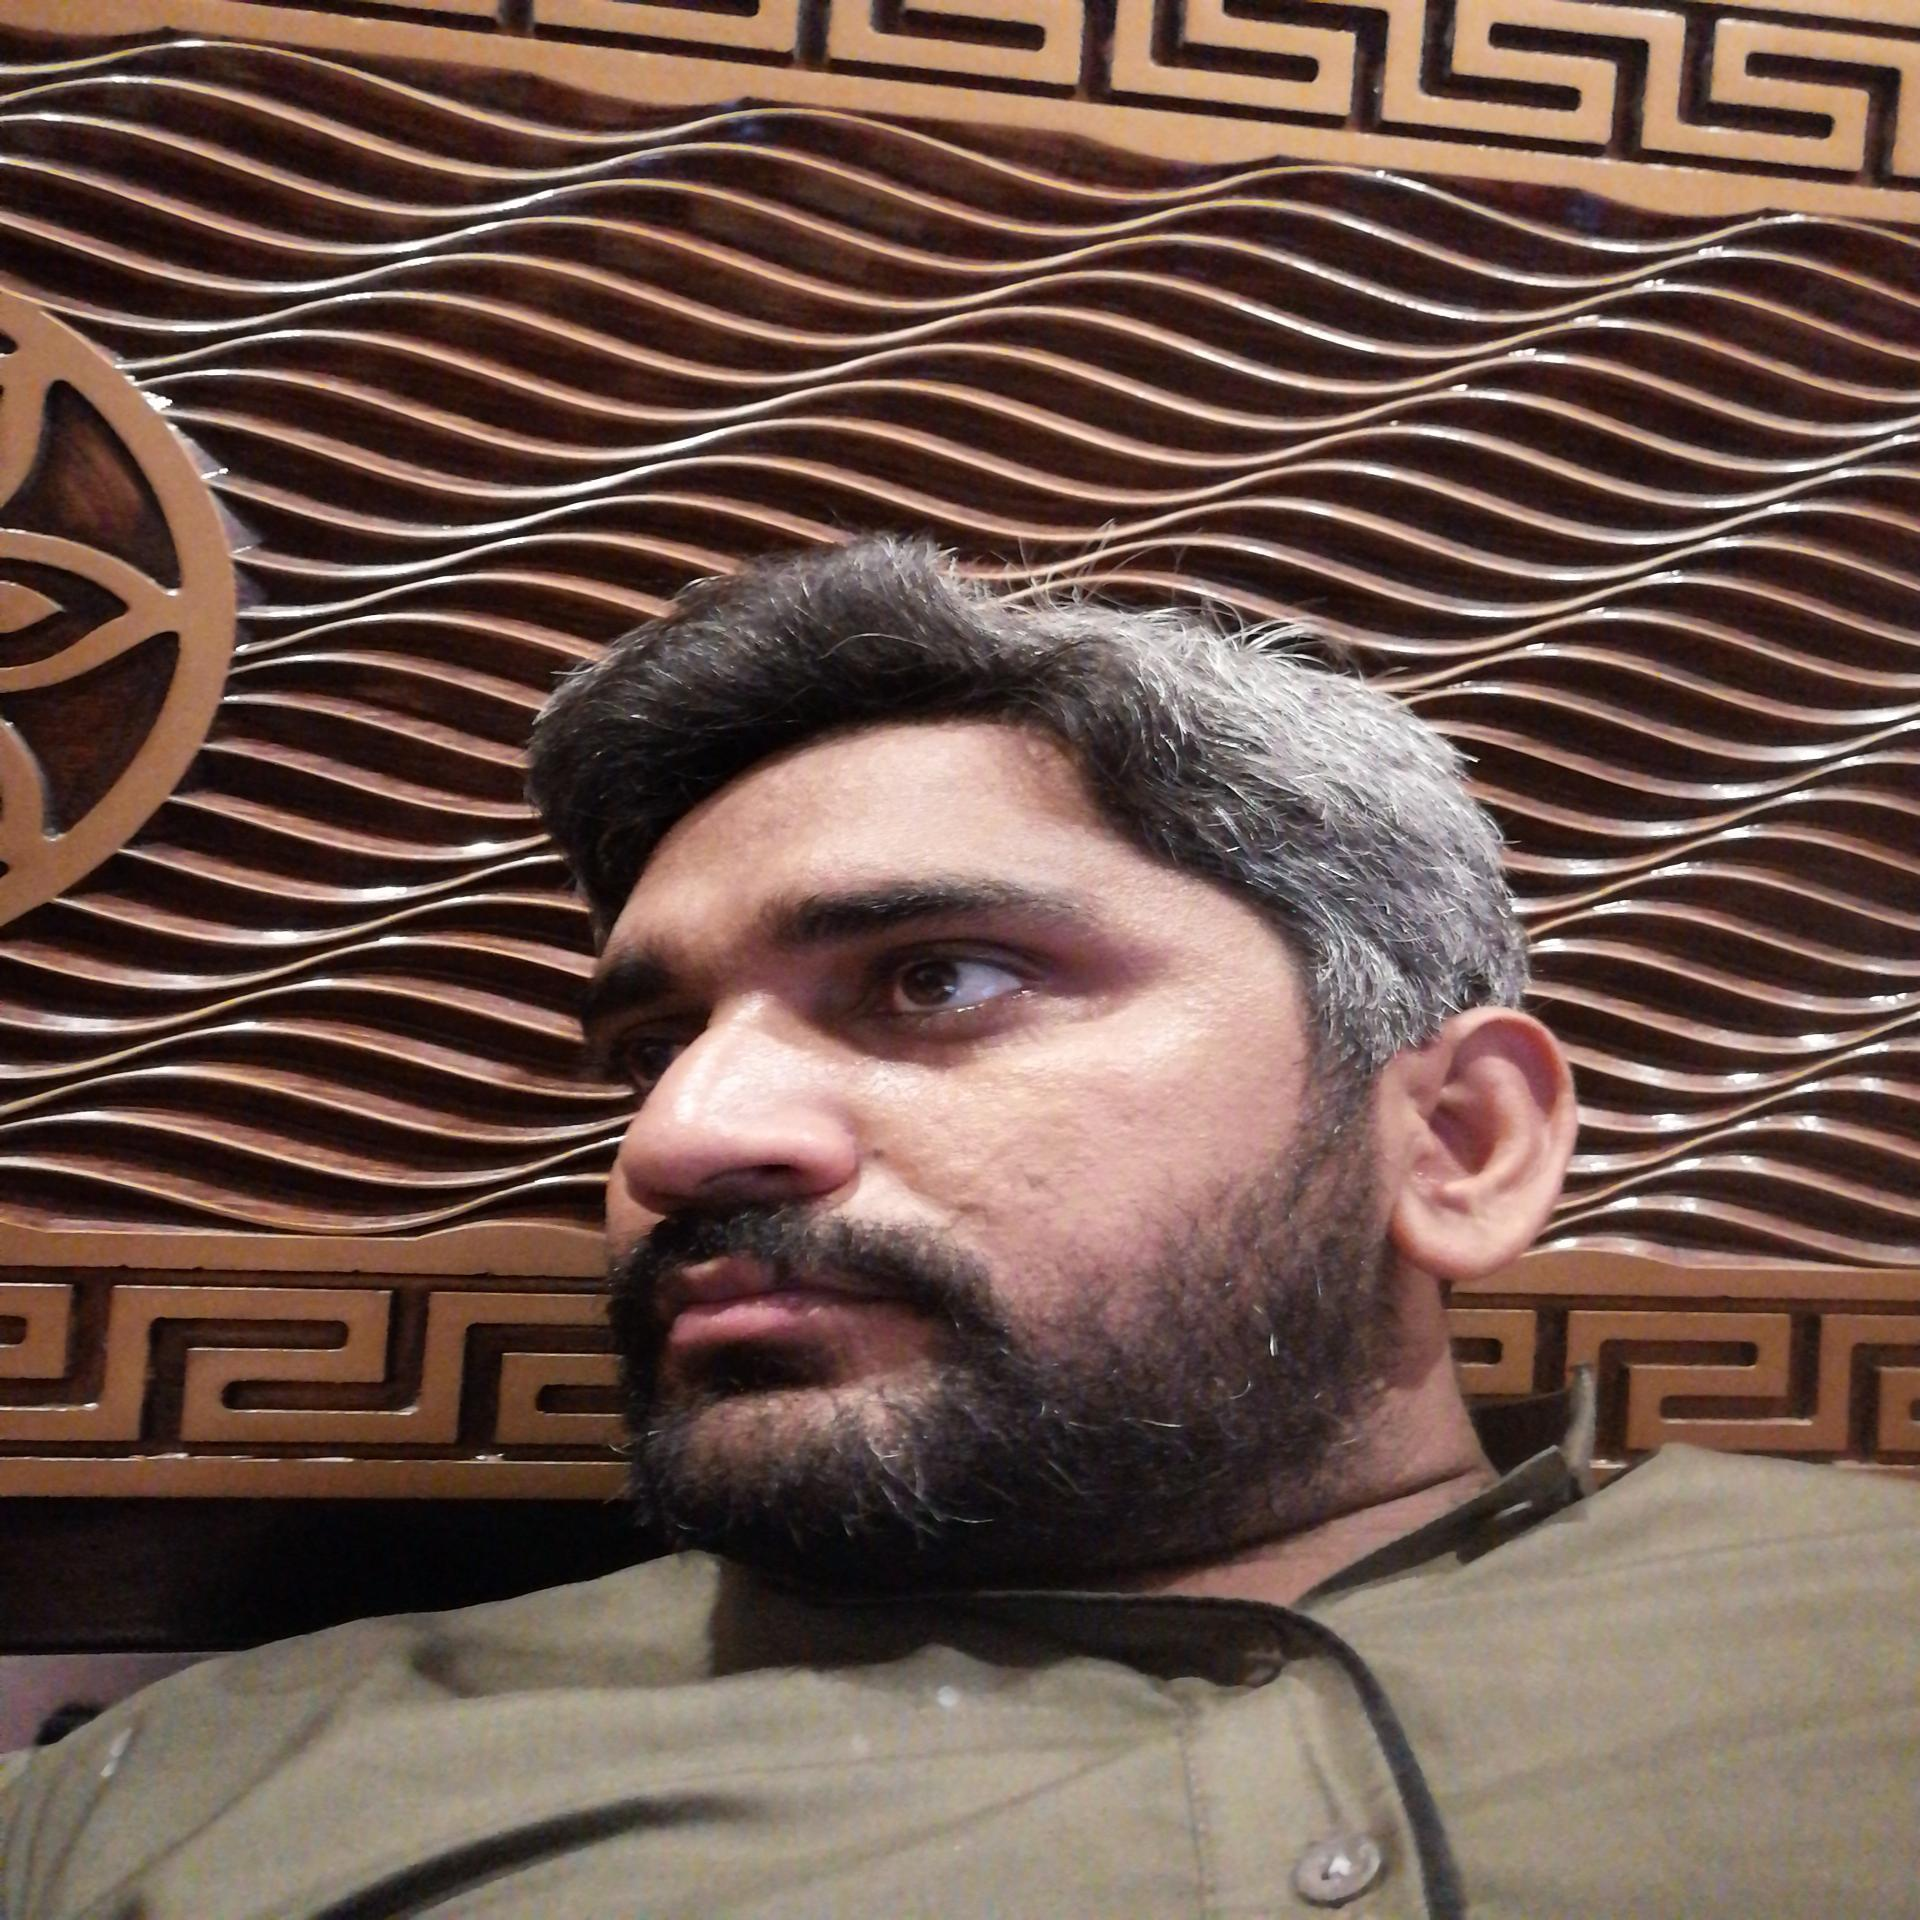Acne: (948, 1190, 990, 1217), (1016, 1162, 1055, 1185)
Dark Circles: (825, 985, 1088, 1071)
